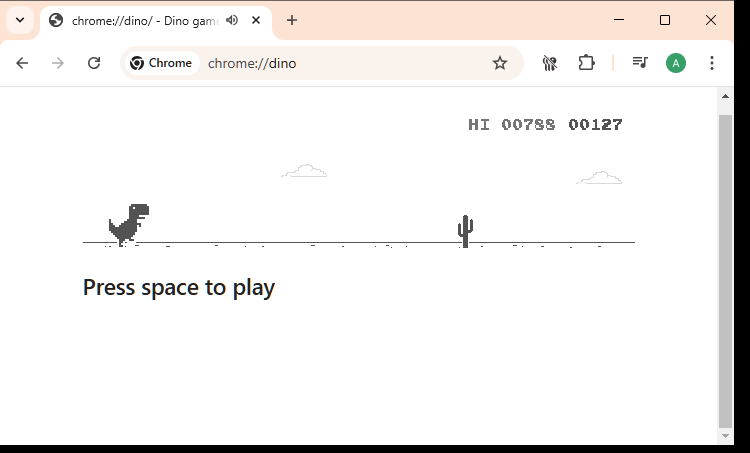cactus: (457, 214, 474, 249)
dino: (108, 203, 150, 248)
